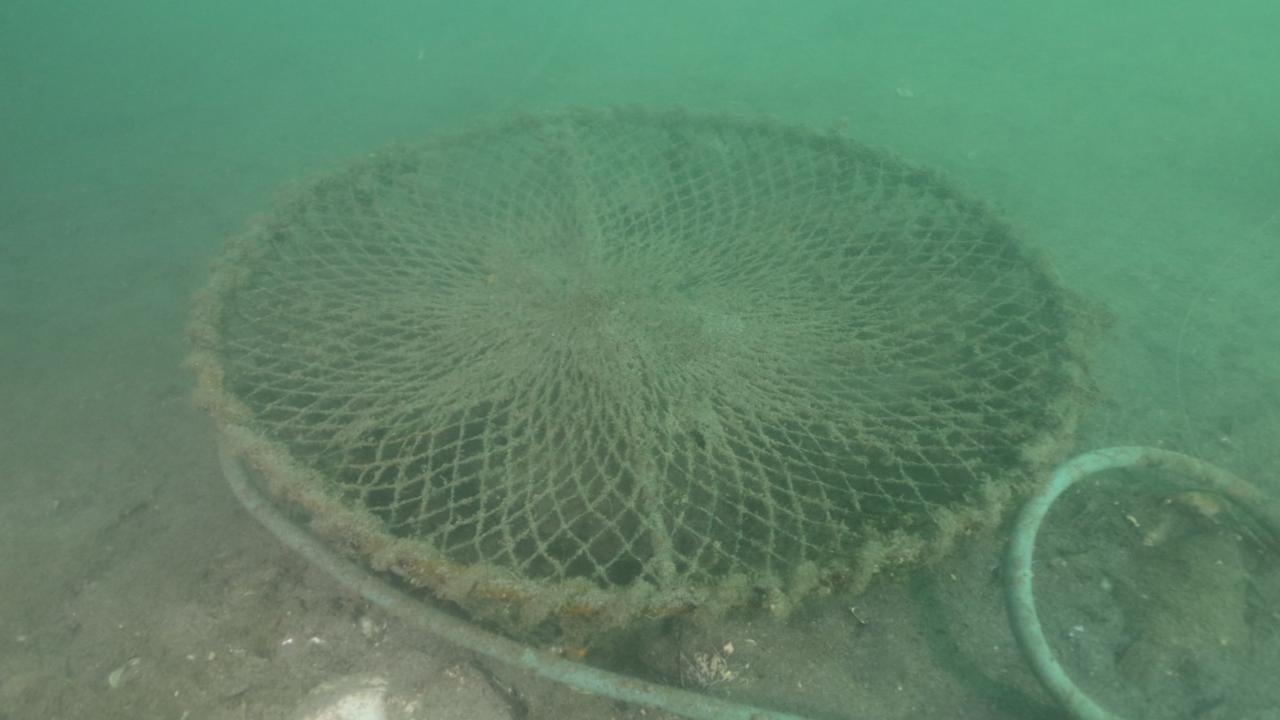circular fish trap: (186, 104, 1084, 622)
